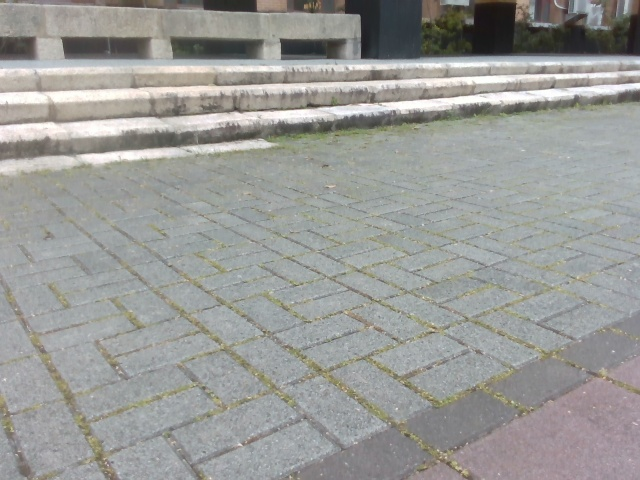grass: (506, 9, 618, 56), (421, 11, 480, 57)
road: (0, 106, 639, 479)
sidewalk: (0, 57, 639, 171)
